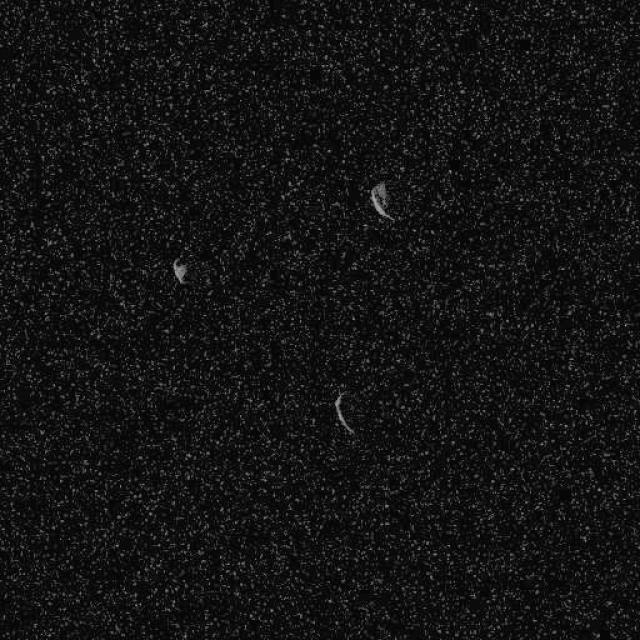D2: (331, 390, 355, 436), (369, 180, 395, 222), (171, 256, 189, 284)
